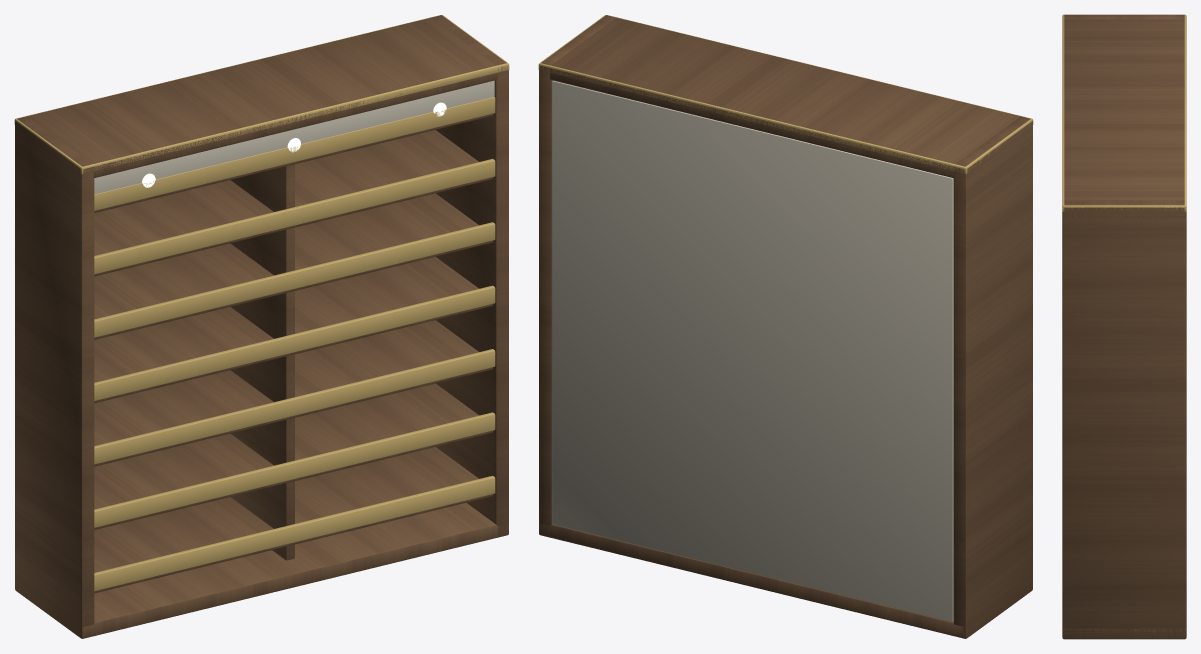
The model's file is pf_display_ball_display_t4.glb.
3 views of the same model, side by side, from view 1: azimuth 30°, elevation 25°; view 2: azimuth 150°, elevation 25°; view 3: azimuth 270°, elevation 25° (orthographic). The views are drawn at different scales.
Parts seen in each view (by area): view 1: Case_Left, Case_Top, Case_Right, Case_Base, Shelf_03, Shelf_05, Shelf_01, Shelf_04, Shelf_02, Shelf_06, Millwork_Divider_01, Shelf_Lip_04 (+9 smaller); view 2: Case_Back, Case_Left, Case_Top, Case_Right, Case_Base, Crown_Trim; view 3: Case_Right, Case_Top, Crown_Trim, Case_Base, Case_Left.
Boxes of the visible parts, x1,y1,x2,y2 form: Case_Left: (15, 116, 94, 638); Case_Top: (23, 17, 497, 179); Case_Right: (431, 15, 508, 537); Case_Base: (82, 503, 508, 638); Shelf_03: (94, 320, 493, 466); Shelf_05: (94, 193, 493, 339); Shelf_01: (94, 447, 493, 593); Shelf_04: (94, 256, 493, 403); Shelf_02: (94, 383, 493, 529); Shelf_06: (94, 130, 493, 276); Millwork_Divider_01: (230, 164, 294, 560); Shelf_Lip_04: (94, 285, 495, 400); Case_Back: (552, 80, 953, 621); Case_Left: (953, 116, 1032, 638); Case_Top: (540, 17, 1026, 179); Case_Right: (539, 15, 616, 536); Case_Base: (539, 523, 968, 638); Crown_Trim: (538, 15, 1033, 174); Case_Right: (1062, 200, 1186, 639); Case_Top: (1062, 19, 1186, 217); Crown_Trim: (1062, 14, 1186, 212); Case_Base: (1062, 628, 1186, 638); Case_Left: (1064, 14, 1184, 19).
Bounding box in the file's own units: 2.05 × 2.16 × 0.56.
5 materials, 1 textured.
